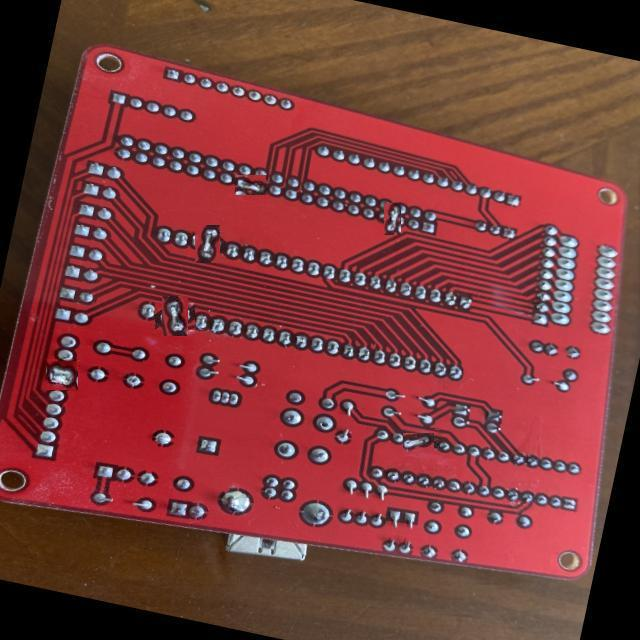damged: (158, 300, 192, 333), (192, 228, 224, 260), (46, 360, 78, 391), (235, 175, 268, 195), (404, 433, 436, 452), (380, 207, 404, 232)
